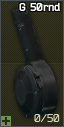Glock 9x19 SGMT 50-round drum magazine: (0, 0, 64, 127)
